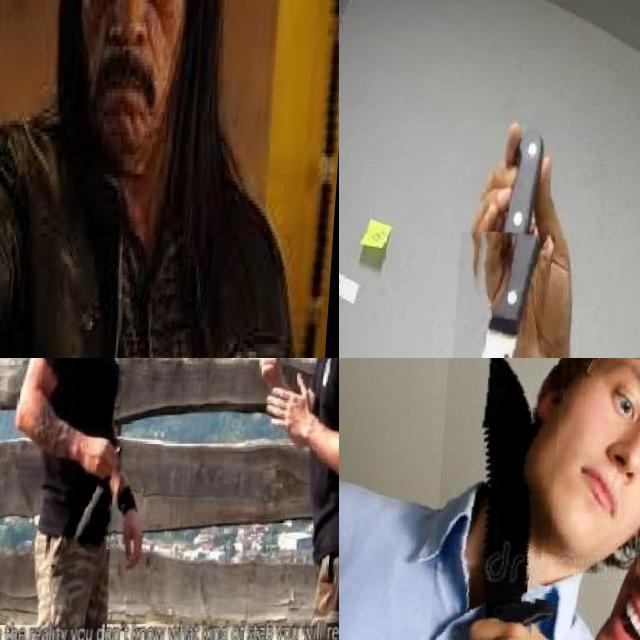-: (434, 358, 565, 640), (443, 231, 552, 358), (78, 439, 128, 549)
gun-knife-thesis - v11 Yolov5 augmented: (0, 130, 62, 358)
